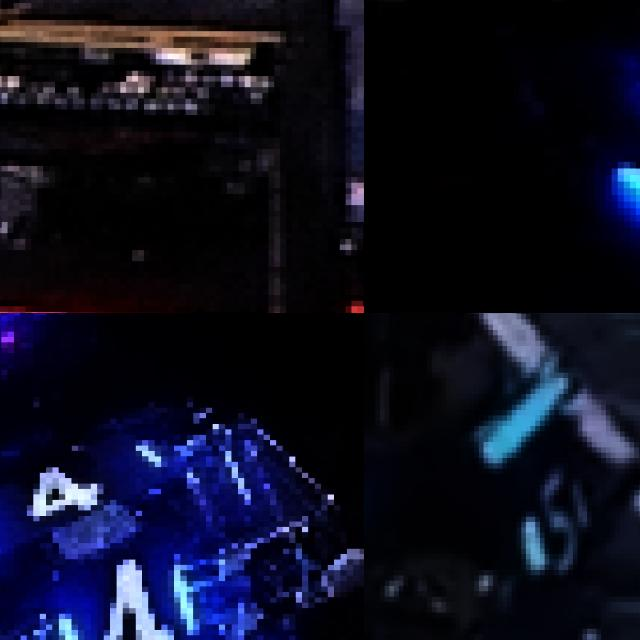B4: (0, 434, 161, 548), (52, 548, 193, 640)
B5: (516, 474, 592, 575)
